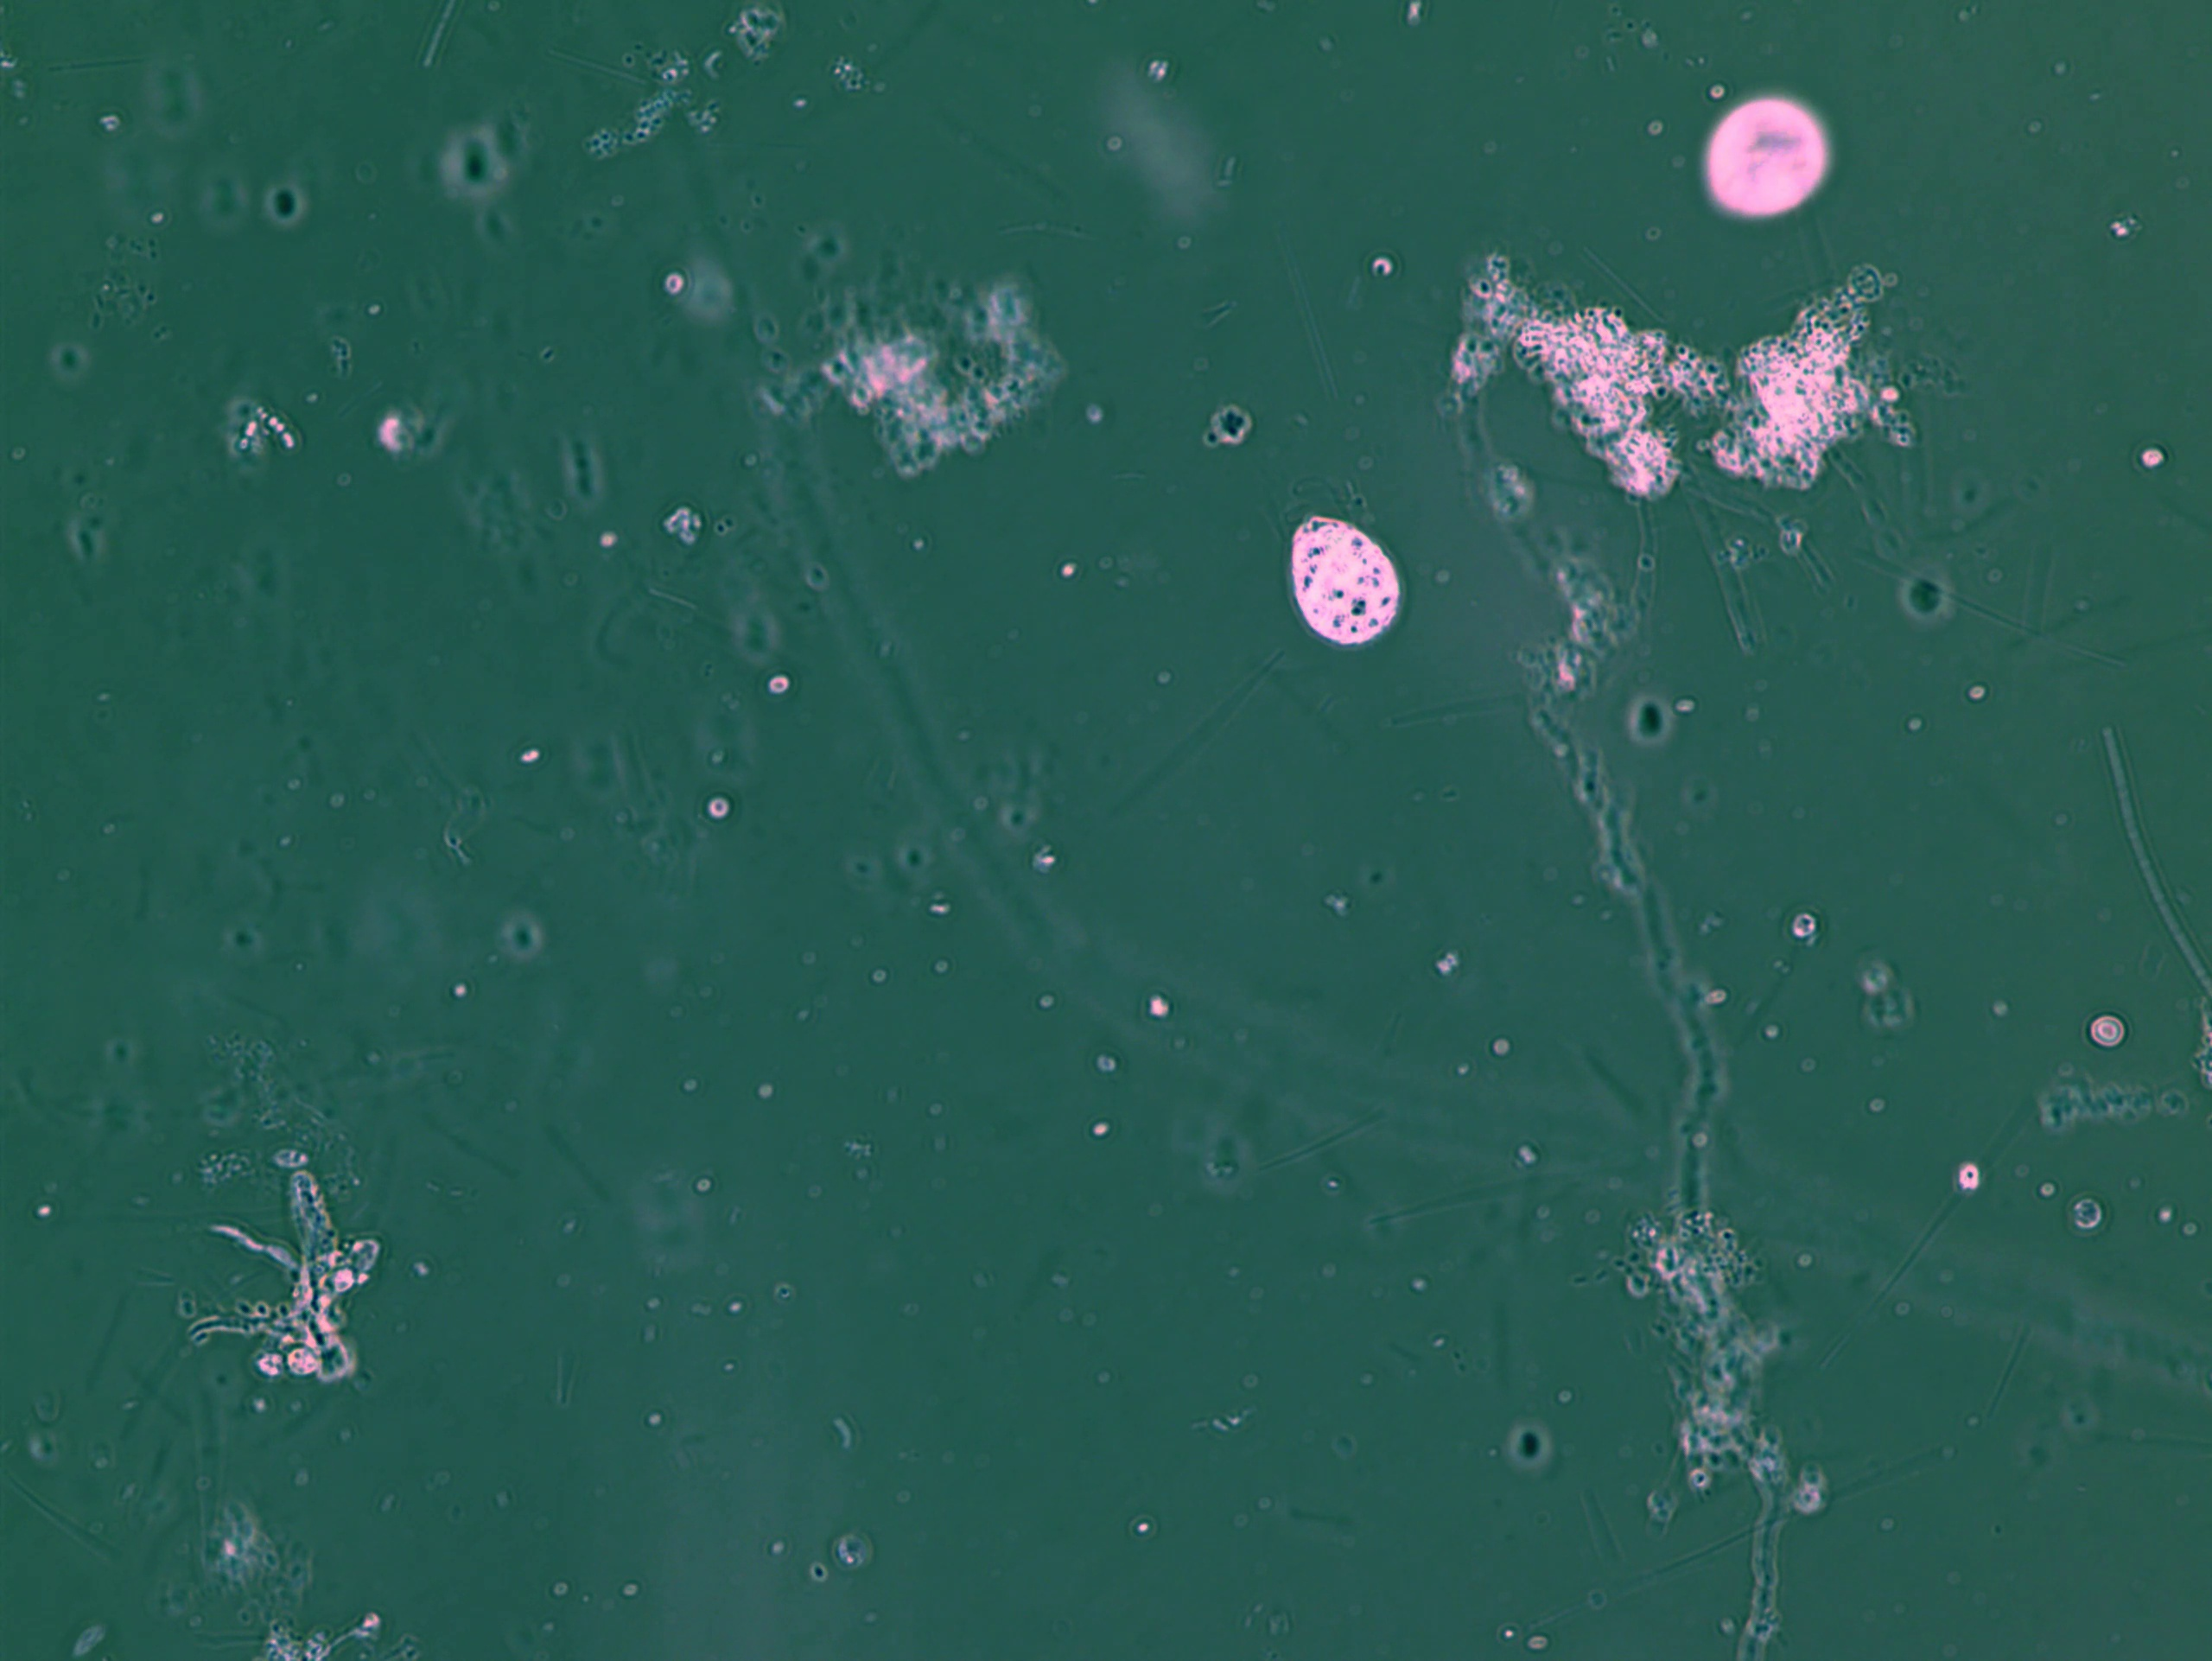depth:0: (1266, 489, 1423, 660)
